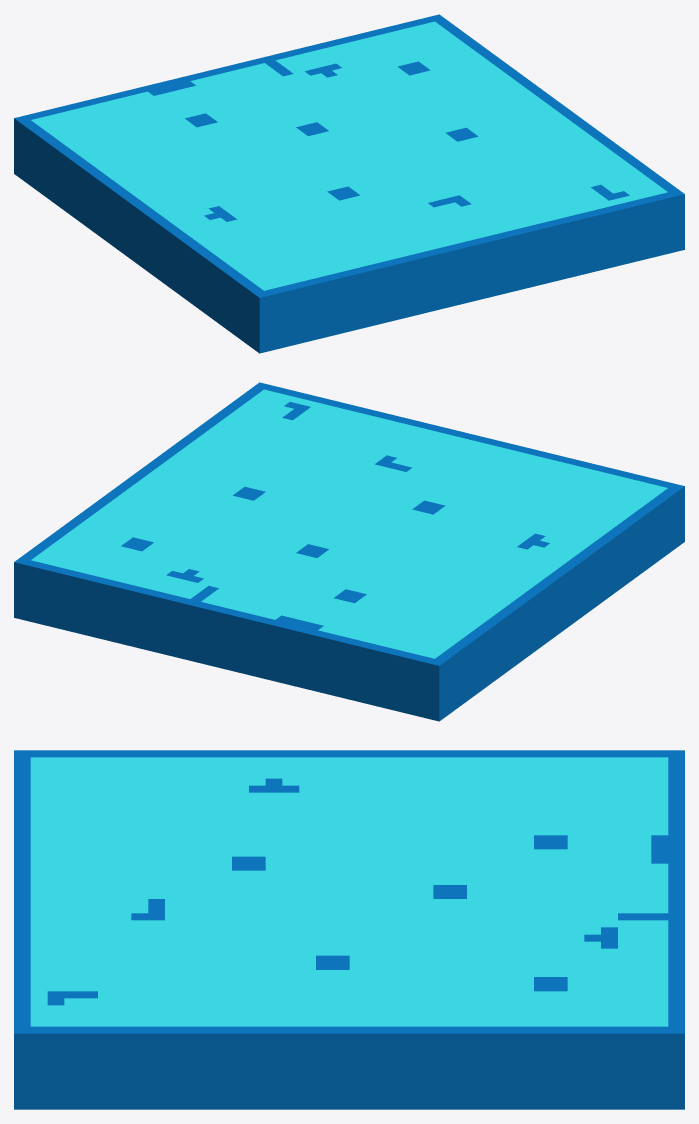
Rendered from blueblock.obj.
3 renders of one model, top to bottom at view 1: azimuth 30°, elevation 25°; view 2: azimuth 150°, elevation 25°; view 3: azimuth 270°, elevation 25°, orthographic. The views are drawn at different scales.
Bounding box in the file's own units: 40 × 5 × 40.
Materials: 1 (1 with a texture image).
